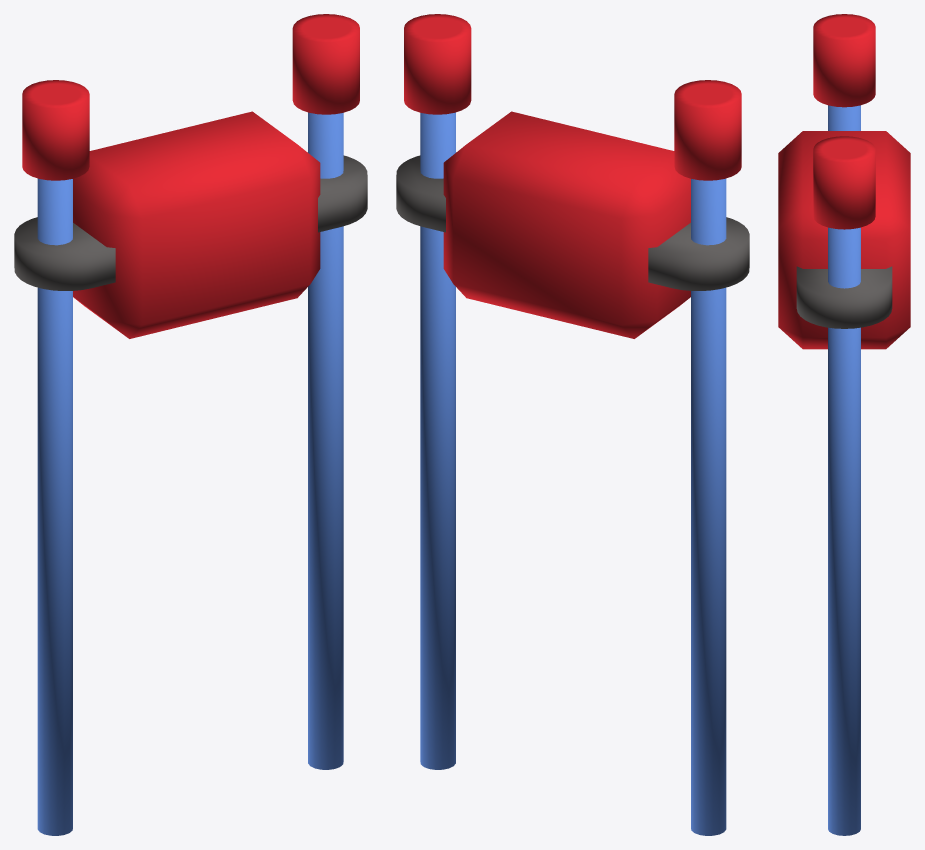
File: Obstacle 24 V1.fbx
3 views of the same model, side by side, from view 1: azimuth 30°, elevation 25°; view 2: azimuth 150°, elevation 25°; view 3: azimuth 270°, elevation 25° (orthographic). The views are drawn at different scales.
Visible parts, largest first — view 1: O24 Part 2, O24 Part 1; view 2: O24 Part 2, O24 Part 1; view 3: O24 Part 2, O24 Part 1.
Part boxes in pixels (bbox=[...]): O24 Part 2: bbox=[22, 14, 359, 835]; O24 Part 1: bbox=[14, 111, 367, 338]; O24 Part 2: bbox=[404, 14, 741, 835]; O24 Part 1: bbox=[396, 111, 749, 338]; O24 Part 2: bbox=[813, 14, 875, 835]; O24 Part 1: bbox=[778, 131, 910, 349].
Size of the model in its own units: 146 by 302 by 53.16.
Materials: 1 (1 with a texture image).
